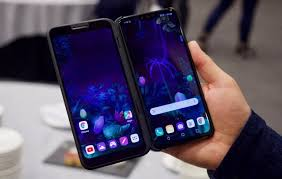lg: (45, 13, 148, 173)
